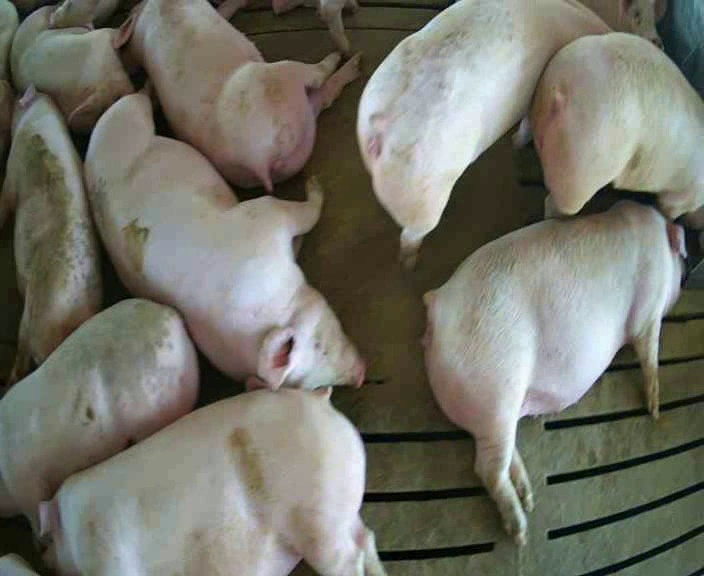pig: (425, 201, 685, 544), (84, 78, 363, 391), (357, 2, 608, 265), (32, 390, 383, 574), (116, 1, 357, 191), (0, 299, 198, 515), (531, 32, 703, 248), (0, 87, 101, 380), (10, 5, 139, 133)
